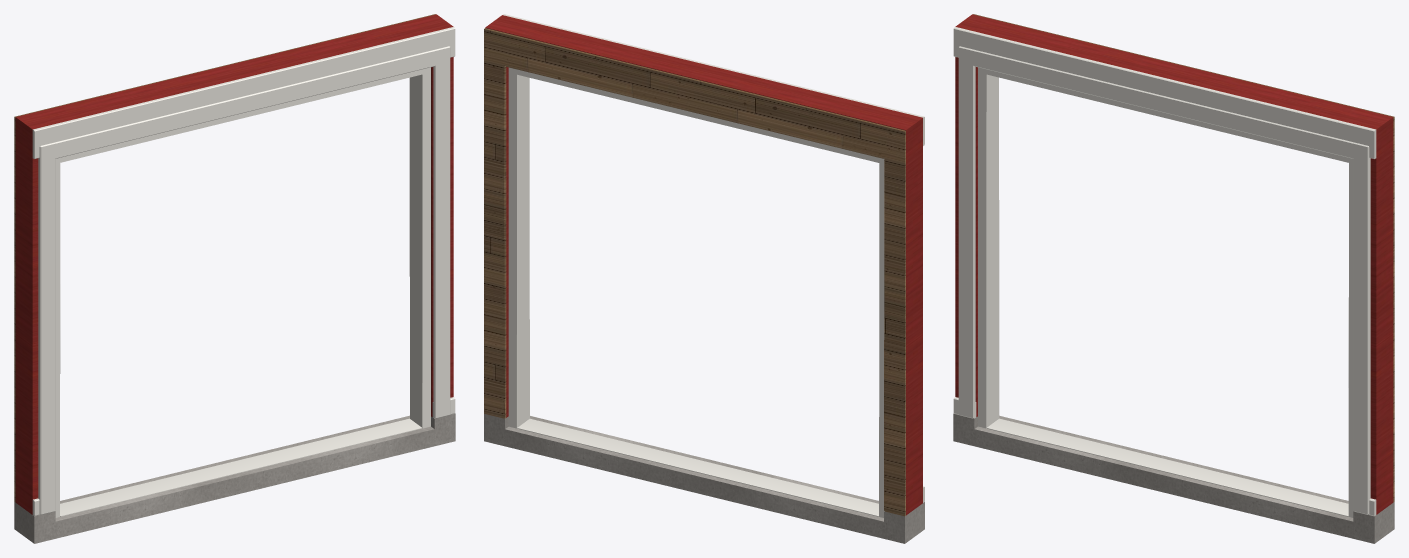
The model's file is barn_wall_bigdoor.glb.
The picture shows the model from 3 angles, left to right: view 1: azimuth 30°, elevation 25°; view 2: azimuth 150°, elevation 25°; view 3: azimuth 330°, elevation 25°; orthographic projection.
Parts seen in each view (by area): view 1: barn_wall_bigdoor_trim, barn_wall_bigdoor_barn, barn_wall_bigdoor_frame, barn_wall_bigdoor_concrete, barn_wall_bigdoor_planks; view 2: barn_wall_bigdoor_planks, barn_wall_bigdoor_frame, barn_wall_bigdoor_barn, barn_wall_bigdoor_concrete, barn_wall_bigdoor_trim; view 3: barn_wall_bigdoor_trim, barn_wall_bigdoor_barn, barn_wall_bigdoor_frame, barn_wall_bigdoor_concrete, barn_wall_bigdoor_planks.
Part boxes in pixels (box(x1,y1,x2,y2)): barn_wall_bigdoor_trim: box(32, 27, 455, 515); barn_wall_bigdoor_barn: box(15, 14, 453, 514); barn_wall_bigdoor_frame: box(55, 67, 430, 517); barn_wall_bigdoor_concrete: box(14, 413, 455, 543); barn_wall_bigdoor_planks: box(14, 14, 435, 502); barn_wall_bigdoor_planks: box(484, 28, 905, 516); barn_wall_bigdoor_frame: box(508, 67, 884, 517); barn_wall_bigdoor_barn: box(485, 15, 922, 515); barn_wall_bigdoor_concrete: box(484, 414, 924, 543); barn_wall_bigdoor_trim: box(503, 14, 924, 502); barn_wall_bigdoor_trim: box(953, 27, 1376, 515); barn_wall_bigdoor_barn: box(955, 14, 1393, 514); barn_wall_bigdoor_frame: box(978, 67, 1353, 517); barn_wall_bigdoor_concrete: box(953, 413, 1394, 543); barn_wall_bigdoor_planks: box(973, 14, 1394, 502).
Bounding box in the file's own units: 4 × 3.75 × 0.34.
Materials: 5 (3 with a texture image).
